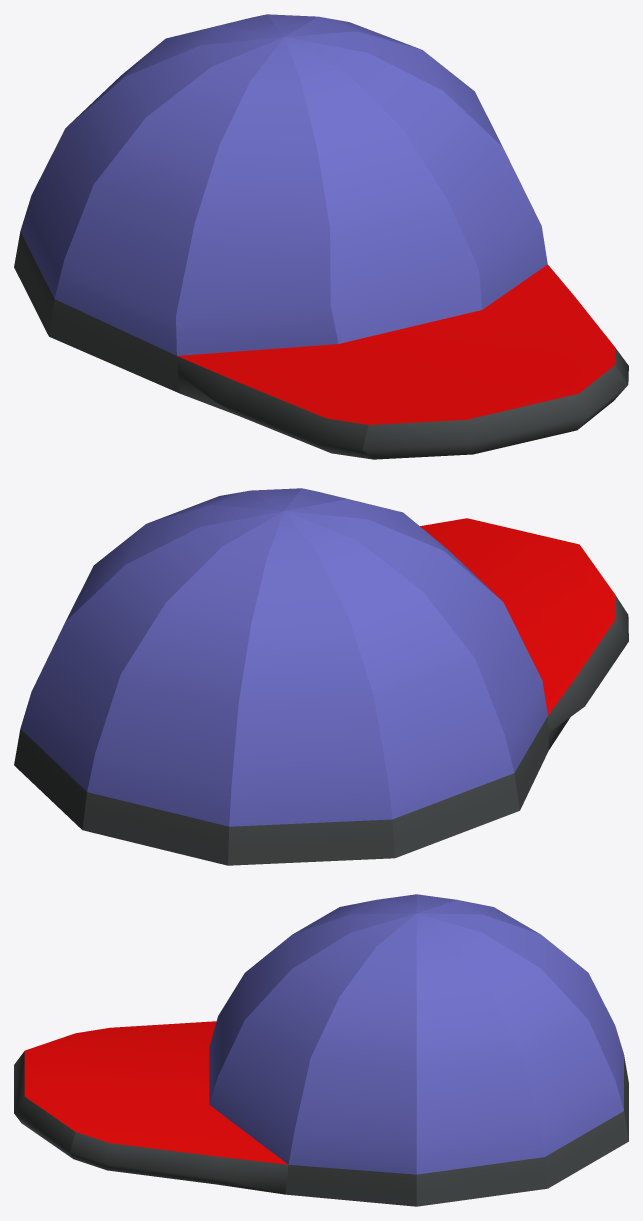
Rendered from BaseballCap.fbx.
The picture shows the model from 3 angles, top to bottom: view 1: azimuth 30°, elevation 25°; view 2: azimuth 150°, elevation 25°; view 3: azimuth 270°, elevation 25°; orthographic projection. The views are drawn at different scales.
Visible parts, largest first — view 1: BaseballCap; view 2: BaseballCap; view 3: BaseballCap.
Boxes of the visible parts, bbox=[...] form: BaseballCap: bbox=[14, 14, 628, 459]; BaseballCap: bbox=[14, 488, 628, 865]; BaseballCap: bbox=[14, 894, 628, 1206].
Bounding box in the file's own units: 20.46 × 10.54 × 28.19.
